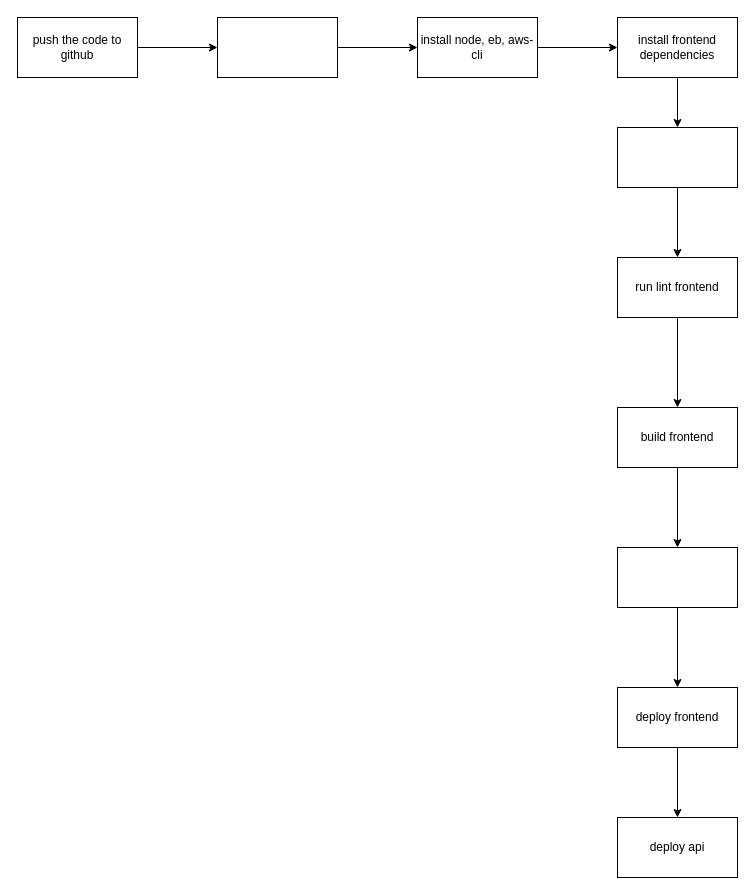
This 755x895 diagram has some shape labels left out. The shapes that lost their labels are listed below. From the top down, each one's centre as x and y in pixels, then its label:
At point (277, 47): "circleci workflow starts".
At point (677, 157): "install api dependencies".
At point (677, 577): "build api".
